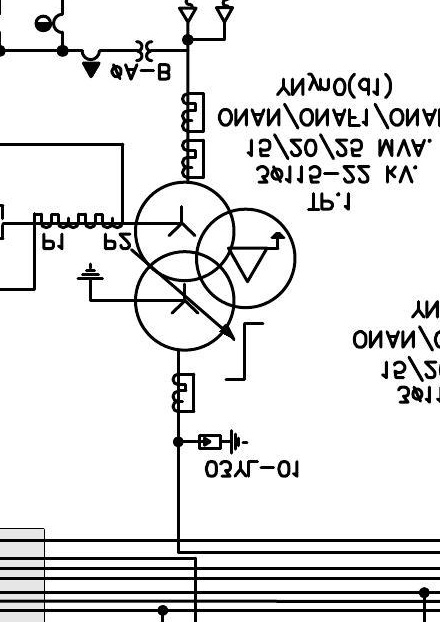11522_tx_ynyn0d1: (133, 179, 298, 353)
115_la: (197, 429, 249, 455)
terminator_double: (177, 6, 235, 42)
